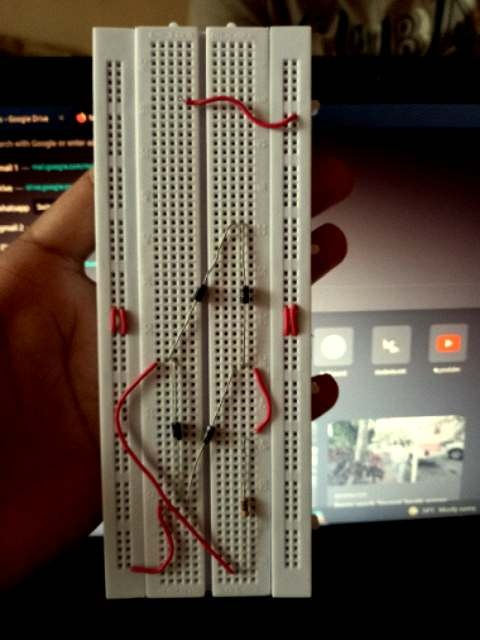resistor: (240, 496, 251, 518)
